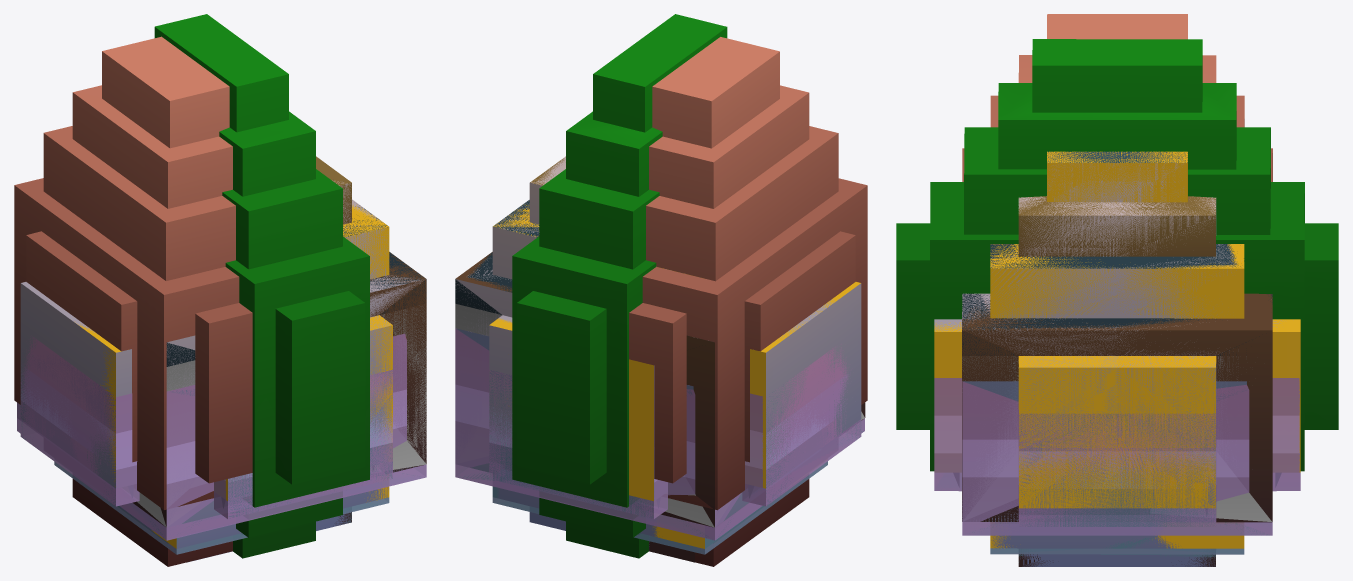
Rendered from Lake.fbx.
3 renders of one model, left to right at view 1: azimuth 30°, elevation 25°; view 2: azimuth 150°, elevation 25°; view 3: azimuth 270°, elevation 25°, orthographic. The views are drawn at different scales.
Visible parts, largest first — view 1: Turtle_Egg, Axolotl_Egg, Swan_Egg, Catfish_Egg, Duckling_Egg, Leviathan_Egg, Frog_Egg; view 2: Turtle_Egg, Axolotl_Egg, Swan_Egg, Catfish_Egg, Duckling_Egg, Leviathan_Egg, Frog_Egg; view 3: Duckling_Egg, Turtle_Egg, Swan_Egg, Axolotl_Egg, Catfish_Egg, Leviathan_Egg, Frog_Egg.
Boxes of the visible parts, x1=… form: Turtle_Egg: x1=14, y1=14, x2=369, y2=566; Axolotl_Egg: x1=17, y1=333, x2=426, y2=553; Swan_Egg: x1=20, y1=180, x2=425, y2=561; Catfish_Egg: x1=17, y1=334, x2=426, y2=554; Duckling_Egg: x1=76, y1=156, x2=426, y2=548; Leviathan_Egg: x1=137, y1=205, x2=426, y2=527; Frog_Egg: x1=20, y1=370, x2=424, y2=554; Turtle_Egg: x1=512, y1=14, x2=867, y2=566; Axolotl_Egg: x1=455, y1=328, x2=864, y2=553; Swan_Egg: x1=455, y1=156, x2=861, y2=551; Catfish_Egg: x1=455, y1=328, x2=864, y2=554; Duckling_Egg: x1=455, y1=158, x2=865, y2=562; Leviathan_Egg: x1=455, y1=181, x2=864, y2=527; Frog_Egg: x1=457, y1=329, x2=863, y2=554; Duckling_Egg: x1=934, y1=151, x2=1300, y2=566; Turtle_Egg: x1=896, y1=14, x2=1338, y2=471; Swan_Egg: x1=934, y1=155, x2=1282, y2=566; Axolotl_Egg: x1=934, y1=378, x2=1300, y2=553; Catfish_Egg: x1=934, y1=378, x2=1300, y2=557; Leviathan_Egg: x1=962, y1=151, x2=1272, y2=521; Frog_Egg: x1=964, y1=381, x2=1267, y2=556.
Bounding box in the file's own units: 78.02 × 111 × 94.12.
